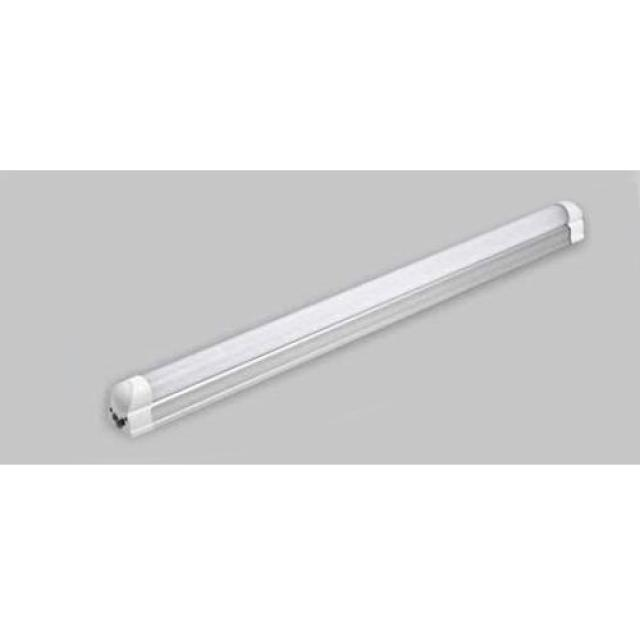tubelight_off: (101, 193, 590, 448)
